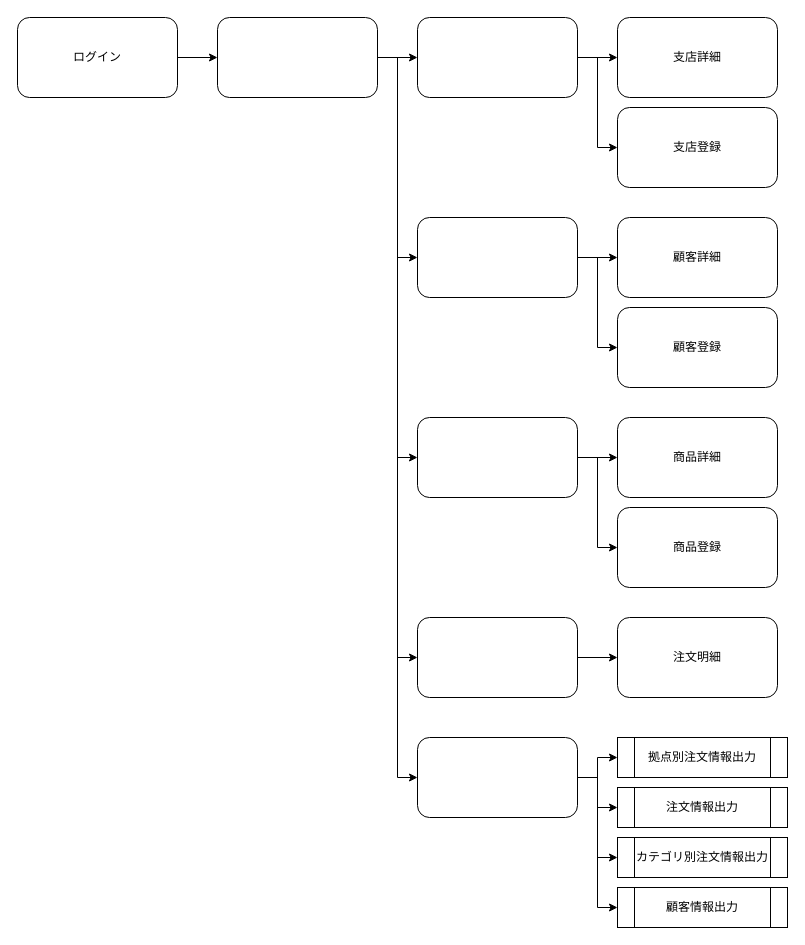
Some shapes in this 805 by 945 pixel diagram are drawn without their labels. Here are the shapes that lost their labels. From the top down, the centre of each, then its label:
(x=297, y=57): トップ
(x=497, y=57): 支店一覧
(x=497, y=257): 顧客一覧
(x=497, y=457): 商品一覧
(x=497, y=657): 注文一覧
(x=497, y=777): 帳票
